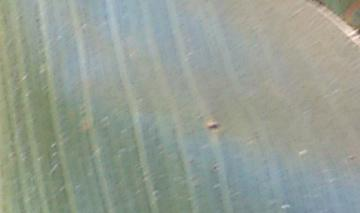tarspot: (204, 120, 221, 133), (346, 152, 357, 162)
